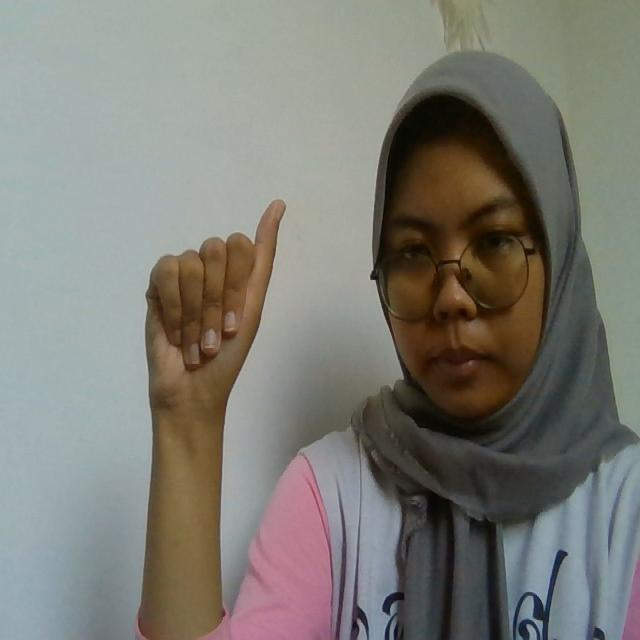A: (146, 197, 288, 402)
